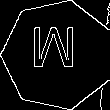M_S: (34, 30, 81, 80)
